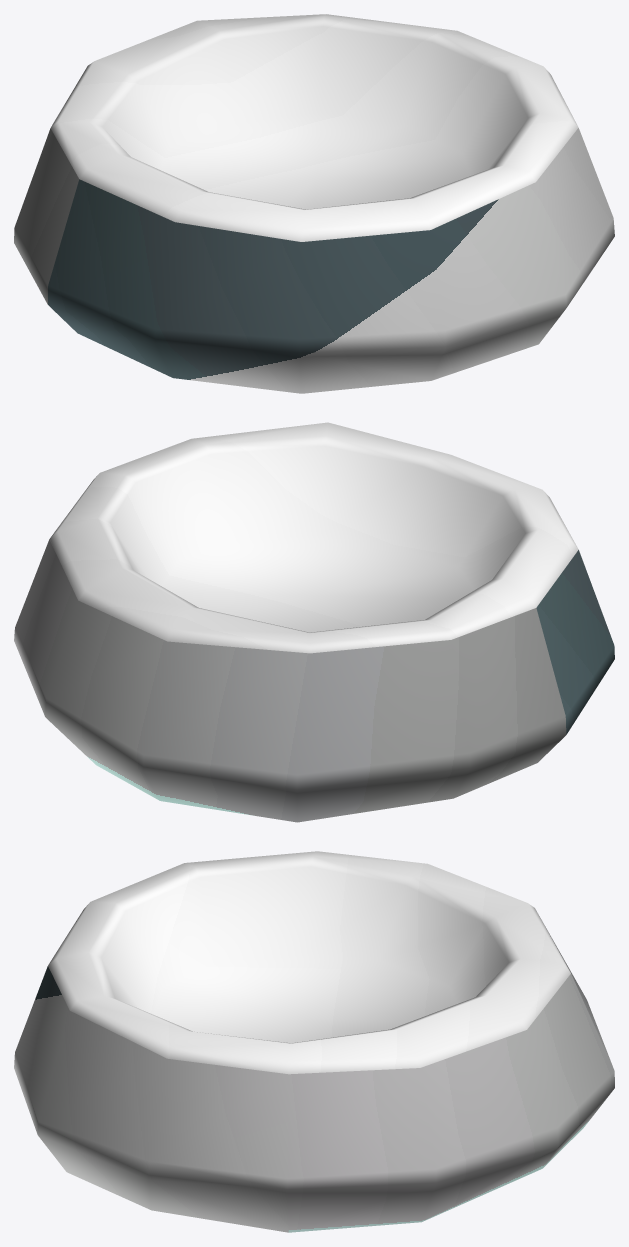
Rendered from P_StoneCandleHolder.glb.
The picture shows the model from 3 angles, top to bottom: view 1: azimuth 30°, elevation 25°; view 2: azimuth 150°, elevation 25°; view 3: azimuth 270°, elevation 25°; orthographic projection.
Parts seen in each view (by area): view 1: P_StoneCandleHolder; view 2: P_StoneCandleHolder; view 3: P_StoneCandleHolder.
Part boxes in pixels (box(x1,y1,x2,y2)): P_StoneCandleHolder: box(14, 14, 614, 393); P_StoneCandleHolder: box(14, 422, 614, 822); P_StoneCandleHolder: box(14, 851, 614, 1232).
Size of the model in its own units: 0.2269 by 0.0734 by 0.2294.
1 material, 1 textured.
